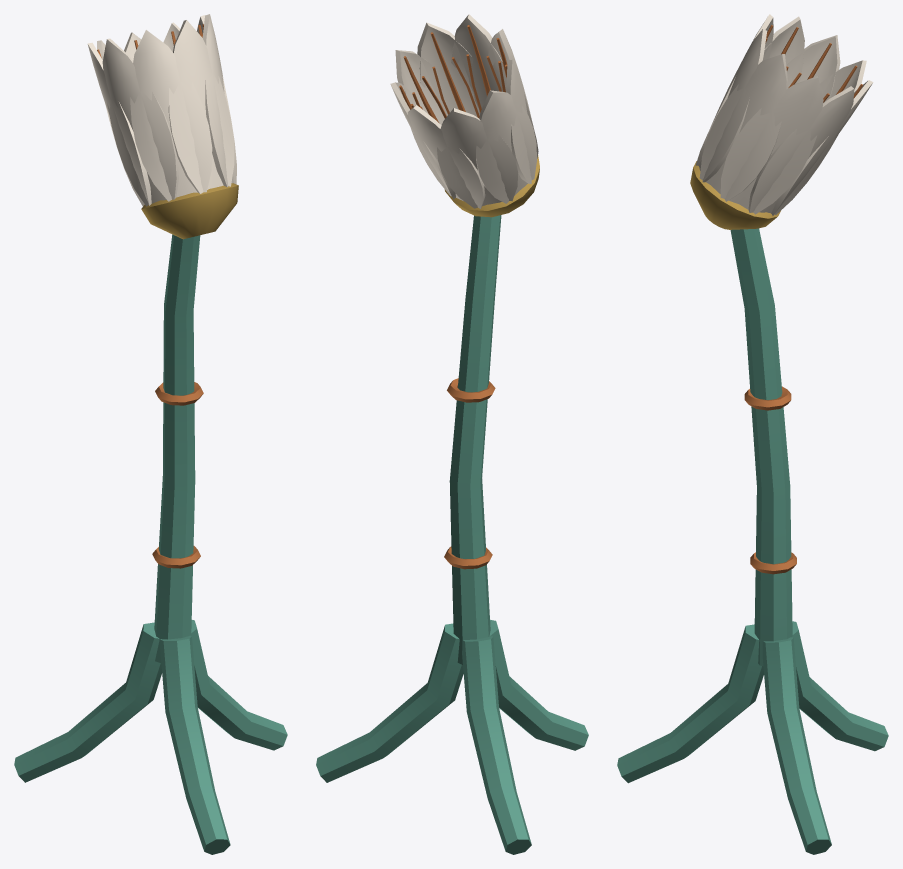
File: deco_solar_petal_closed.fbx
3 views of the same model, side by side, from view 1: azimuth 30°, elevation 25°; view 2: azimuth 150°, elevation 25°; view 3: azimuth 270°, elevation 25° (orthographic).
Visible parts, largest first — view 1: SolarPetal_Closed_Roots, SolarPetal_Closed_Stem, SolarPetal_Closed_Petal7, SolarPetal_Closed_Petal8, SolarPetal_Closed_Petal6, SolarPetal_Closed_Hub, SolarPetal_Closed_Petal9, SolarPetal_Closed_Petal5; view 2: SolarPetal_Closed_Roots, SolarPetal_Closed_Stem, SolarPetal_Closed_Petal4, SolarPetal_Closed_Petal5, SolarPetal_Closed_Petal9, SolarPetal_Closed_Petal8, SolarPetal_Closed_Petal3, SolarPetal_Closed_Petal1, SolarPetal_Closed_Petal6, SolarPetal_Closed_Hub, SolarPetal_Closed_Petal7, SolarPetal_Closed_Petal2; view 3: SolarPetal_Closed_Roots, SolarPetal_Closed_Stem, SolarPetal_Closed_Petal1, SolarPetal_Closed_Petal9, SolarPetal_Closed_Petal2, SolarPetal_Closed_Petal8, SolarPetal_Closed_Hub, SolarPetal_Closed_Petal5, SolarPetal_Closed_Petal6, SolarPetal_Closed_Petal3, SolarPetal_Closed_Petal4, SolarPetal_Closed_Petal7.
Part boxes in pixels (bbox=[...]): SolarPetal_Closed_Roots: bbox=[14, 620, 287, 854]; SolarPetal_Closed_Stem: bbox=[152, 234, 203, 662]; SolarPetal_Closed_Petal7: bbox=[130, 30, 212, 201]; SolarPetal_Closed_Petal8: bbox=[168, 20, 234, 193]; SolarPetal_Closed_Petal6: bbox=[102, 38, 178, 206]; SolarPetal_Closed_Hub: bbox=[141, 183, 238, 239]; SolarPetal_Closed_Petal9: bbox=[202, 14, 233, 187]; SolarPetal_Closed_Petal5: bbox=[87, 42, 151, 205]; SolarPetal_Closed_Roots: bbox=[316, 619, 588, 854]; SolarPetal_Closed_Stem: bbox=[444, 215, 501, 664]; SolarPetal_Closed_Petal4: bbox=[437, 108, 518, 208]; SolarPetal_Closed_Petal5: bbox=[476, 90, 536, 203]; SolarPetal_Closed_Petal9: bbox=[417, 22, 479, 118]; SolarPetal_Closed_Petal8: bbox=[451, 14, 504, 113]; SolarPetal_Closed_Petal3: bbox=[407, 105, 485, 208]; SolarPetal_Closed_Petal1: bbox=[395, 50, 446, 124]; SolarPetal_Closed_Petal6: bbox=[505, 59, 531, 183]; SolarPetal_Closed_Hub: bbox=[444, 155, 539, 217]; SolarPetal_Closed_Petal7: bbox=[488, 29, 538, 158]; SolarPetal_Closed_Petal2: bbox=[390, 82, 455, 199]; SolarPetal_Closed_Roots: bbox=[617, 621, 888, 854]; SolarPetal_Closed_Stem: bbox=[730, 228, 796, 665]; SolarPetal_Closed_Petal1: bbox=[720, 76, 823, 214]; SolarPetal_Closed_Petal9: bbox=[699, 54, 787, 201]; SolarPetal_Closed_Petal2: bbox=[748, 86, 854, 214]; SolarPetal_Closed_Petal8: bbox=[698, 29, 767, 182]; SolarPetal_Closed_Hub: bbox=[690, 161, 780, 229]; SolarPetal_Closed_Petal5: bbox=[786, 35, 840, 102]; SolarPetal_Closed_Petal6: bbox=[763, 16, 804, 83]; SolarPetal_Closed_Petal3: bbox=[771, 80, 873, 215]; SolarPetal_Closed_Petal4: bbox=[820, 60, 866, 102]; SolarPetal_Closed_Petal7: bbox=[695, 14, 773, 165].
Bounding box in the file's own units: 99.21 × 306 × 97.72.
